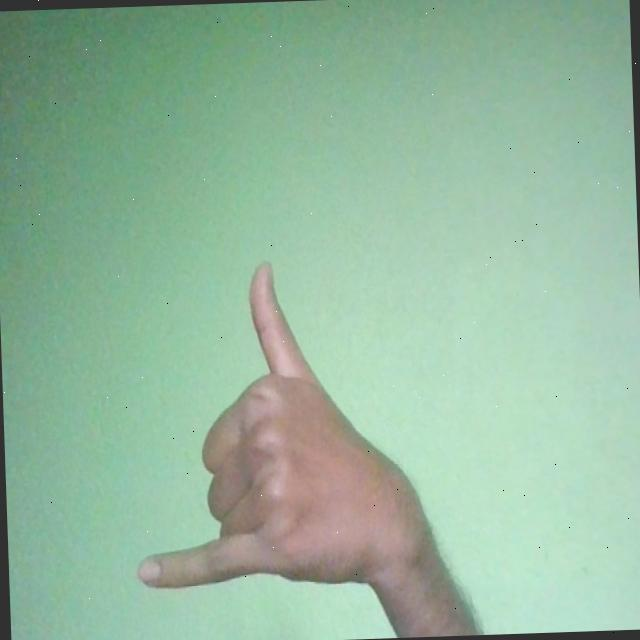Call Me: (125, 254, 440, 590)
